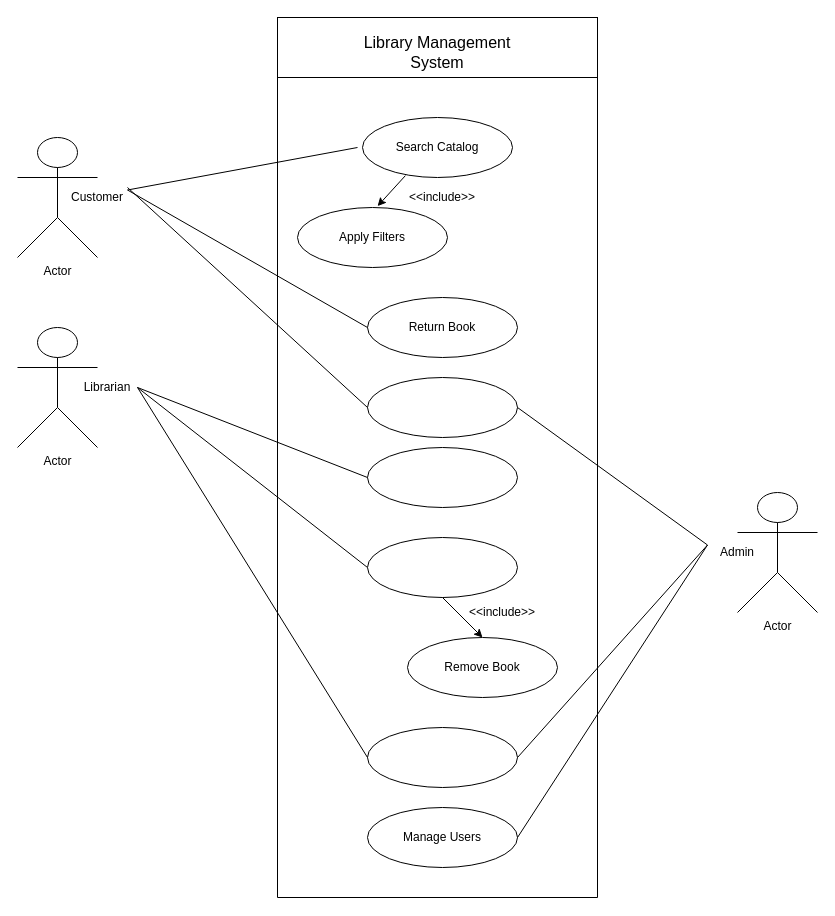
Image size: 835x916. Some labels were removed from this diagram. The shapes that lost their labels are listed below. From the top down, each one's box as (x1, y1, x2, y2) in pixels, then its label:
(366, 376, 518, 438): View Account (Holds/Dues)
(366, 446, 518, 508): Add Book
(366, 536, 518, 598): Manage Books
(366, 726, 518, 788): Manage Reservations
